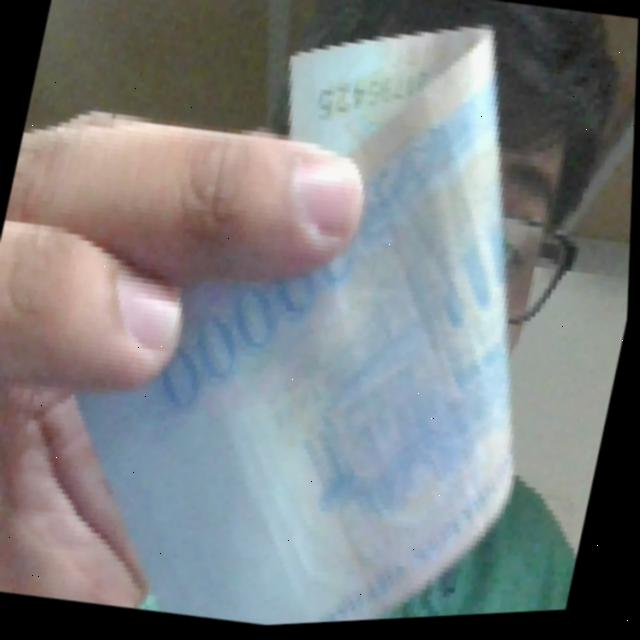20 000 VND: (28, 0, 615, 638)
